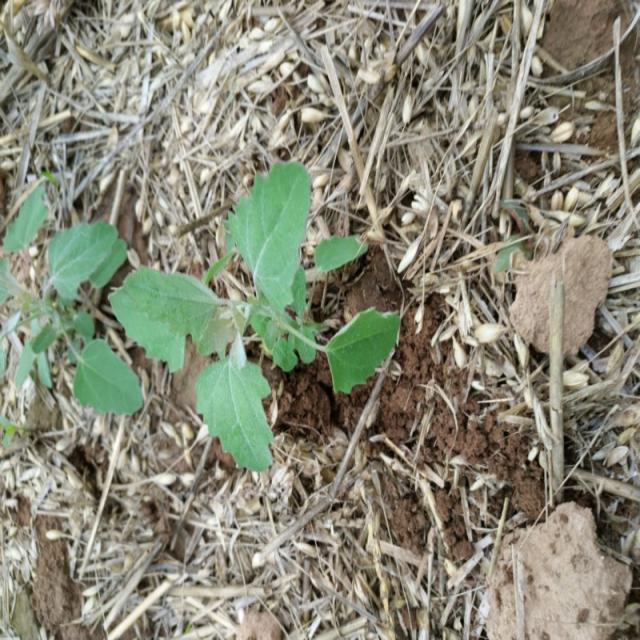goosefoots: (118, 167, 421, 476)
